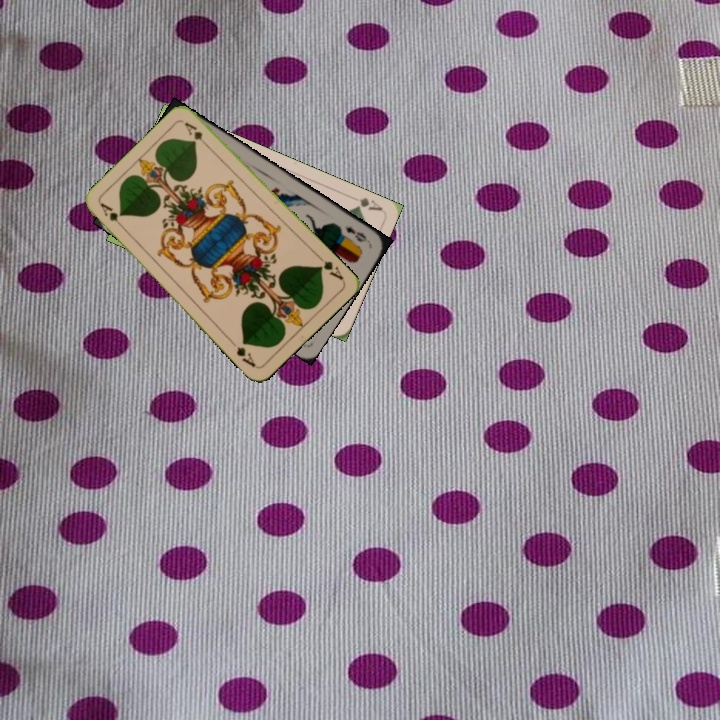EO: (334, 222, 372, 245)
GA: (96, 199, 128, 233), (313, 251, 346, 283), (352, 193, 385, 213)
